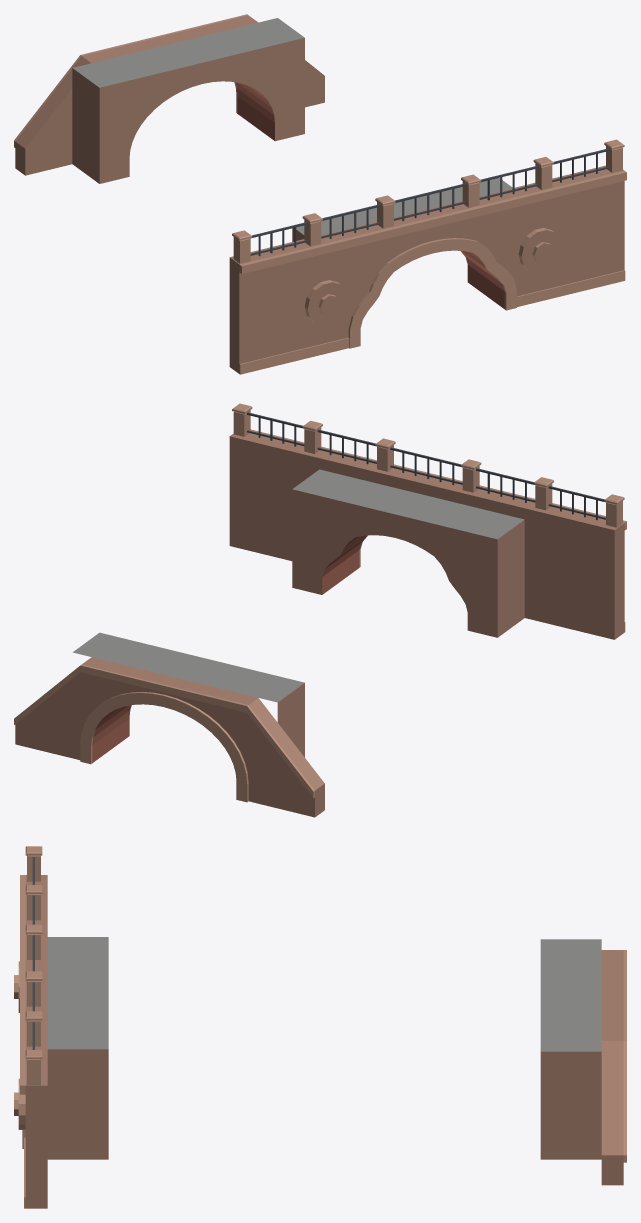
Rendered from nyc-trefoil-arch.glb.
3 views of the same model, one above another, from view 1: azimuth 30°, elevation 25°; view 2: azimuth 150°, elevation 25°; view 3: azimuth 270°, elevation 25° (orthographic). The views are drawn at different scales.
Parts seen in each view (by area): view 1: Trefoil Arch; view 2: Trefoil Arch; view 3: Trefoil Arch.
Part boxes in pixels (x1=…): Trefoil Arch: x1=14, y1=14, x2=626, y2=374; Trefoil Arch: x1=14, y1=403, x2=626, y2=817; Trefoil Arch: x1=14, y1=846, x2=626, y2=1208.
Size of the model in its own units: 18 by 6.07 by 22.14.
